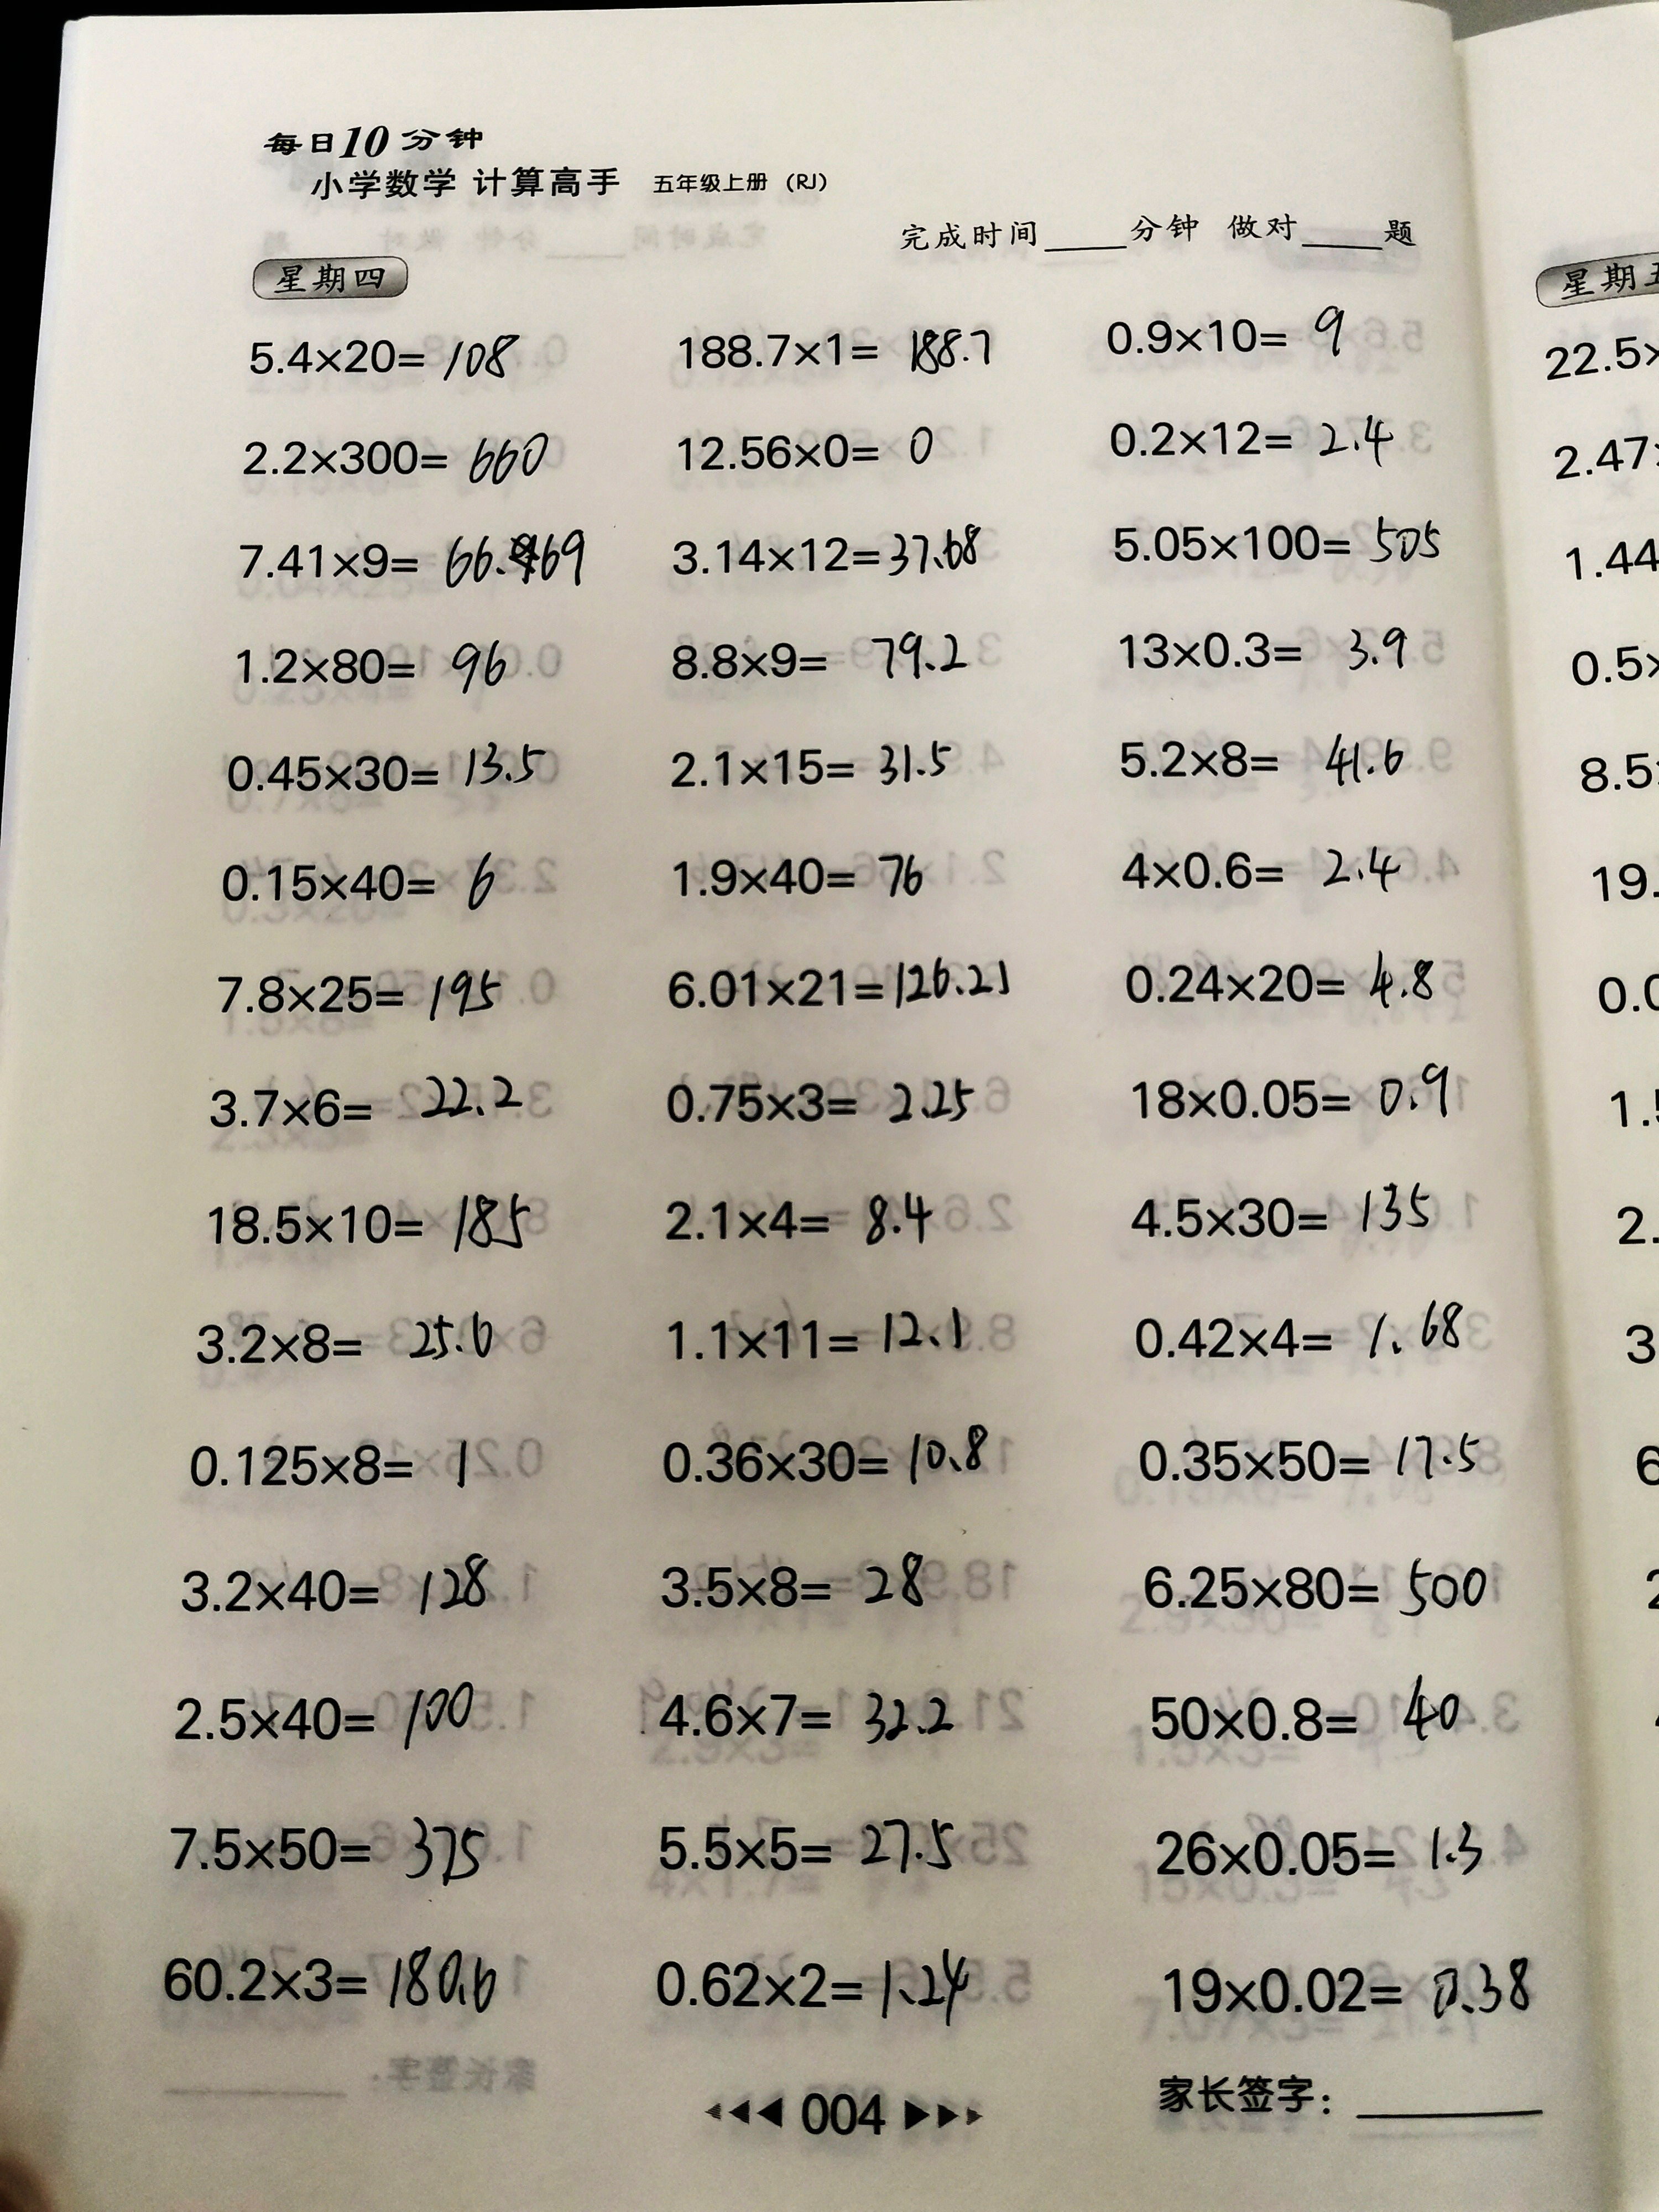equation: (1141, 1940, 1568, 2024), (150, 1799, 500, 1900), (145, 1939, 523, 2029), (633, 1939, 990, 2034), (641, 935, 1037, 1021), (157, 1543, 525, 1634), (190, 1170, 551, 1261), (1121, 1540, 1509, 1623), (1122, 1418, 1502, 1501), (640, 1413, 1018, 1496), (1127, 1811, 1504, 1893), (641, 1054, 999, 1139), (1117, 1289, 1488, 1371), (633, 1531, 960, 1623), (641, 1298, 1009, 1379), (1103, 941, 1452, 1026), (1108, 1050, 1476, 1130), (1098, 707, 1429, 796), (152, 1676, 500, 1759), (218, 523, 594, 599), (647, 714, 981, 799), (631, 1672, 971, 1756), (631, 1806, 976, 1888), (1117, 1676, 1485, 1752), (1098, 498, 1460, 575), (655, 310, 1012, 387), (202, 728, 556, 805), (1098, 611, 1429, 691), (636, 1181, 981, 1258), (655, 517, 1007, 592), (178, 1425, 498, 1505), (227, 418, 566, 493), (1107, 824, 1422, 904), (1107, 1176, 1455, 1247), (190, 954, 519, 1029), (185, 1303, 519, 1374), (647, 834, 965, 909), (190, 1068, 538, 1136), (647, 617, 986, 686), (211, 846, 525, 921), (1087, 409, 1408, 481), (1087, 296, 1363, 373), (225, 324, 551, 387), (659, 420, 960, 486), (218, 636, 533, 697)
